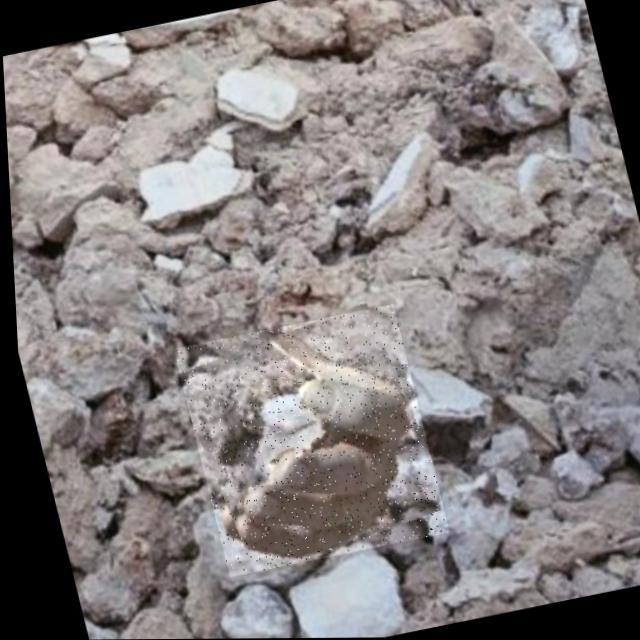Person in Rubble: (168, 304, 446, 578)
